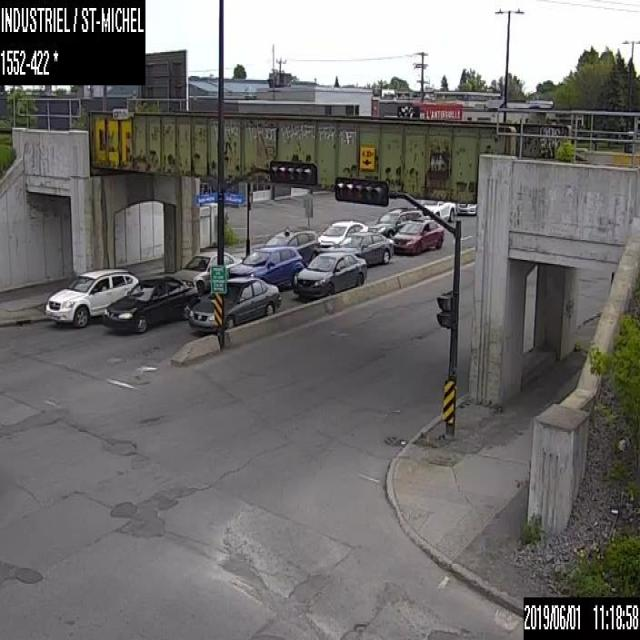vehicle: (42, 268, 139, 328), (100, 276, 199, 333), (189, 276, 280, 332), (291, 251, 366, 300), (228, 244, 303, 290), (170, 250, 242, 293), (263, 225, 318, 263), (392, 219, 443, 253), (344, 232, 393, 264), (374, 206, 423, 237), (316, 220, 368, 249), (420, 198, 456, 221), (455, 200, 476, 215)
